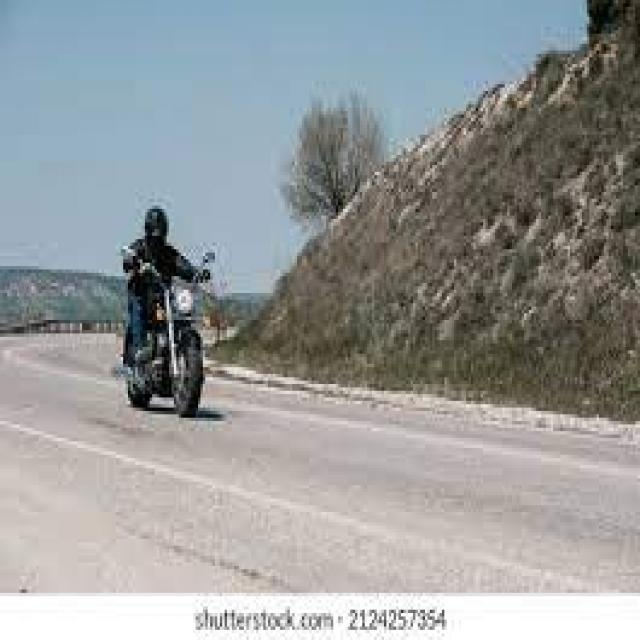Bike: (117, 244, 217, 419)
